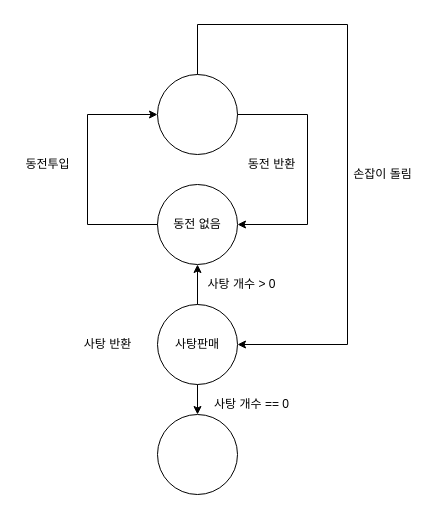
Image size: 439x512. Some labels were removed from this diagram. The centre of each missing label's shape, as x and y in pixels:
"동전 있음" belongs at [197,114].
"사탕 매진" belongs at [197,454].
